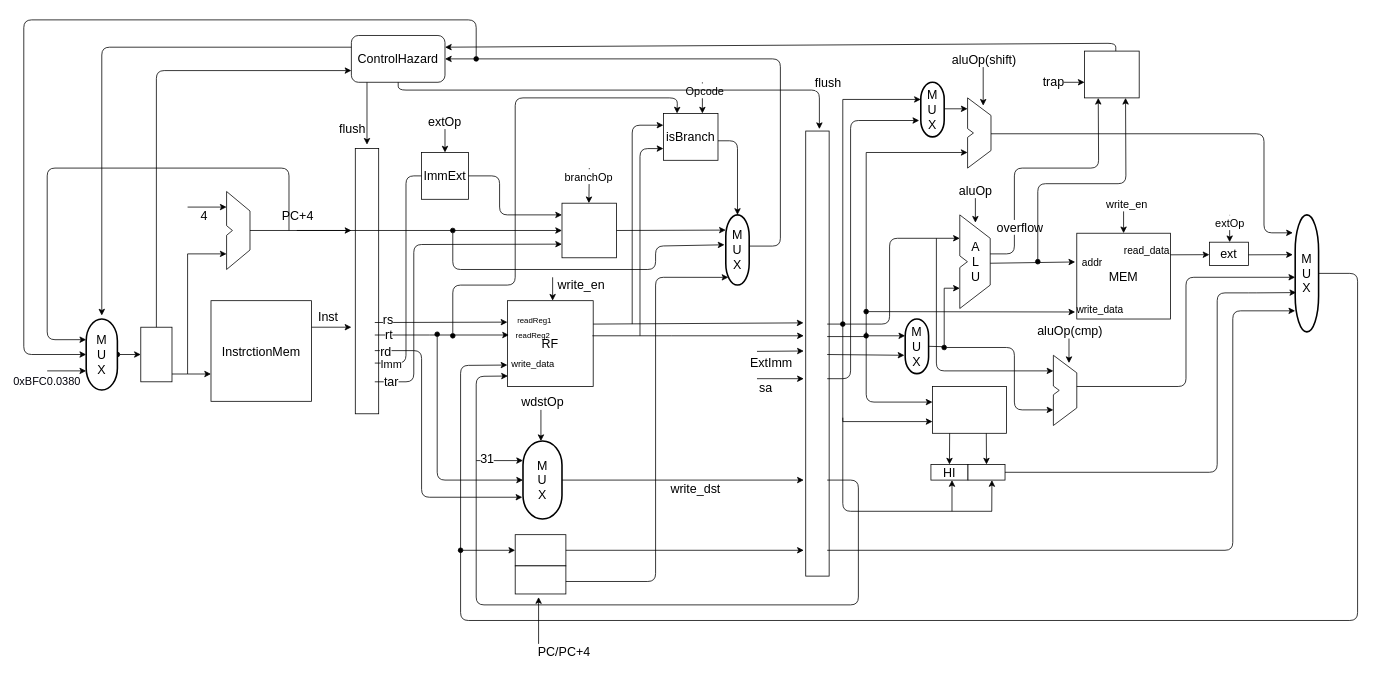
Image size: 1377x673. Some labels were removed from this diagram. Here are the shapes that lost their labels. From the top down, the centre of each, then its label:
At point (1111, 74): "Exception".
At point (589, 230): "branchPC".
At point (156, 354): "PC".
At point (969, 409): "MUL/DIV".
At point (986, 472): "LO".
At point (540, 550): "CP0 Reg".
At point (540, 579): "EPC".
